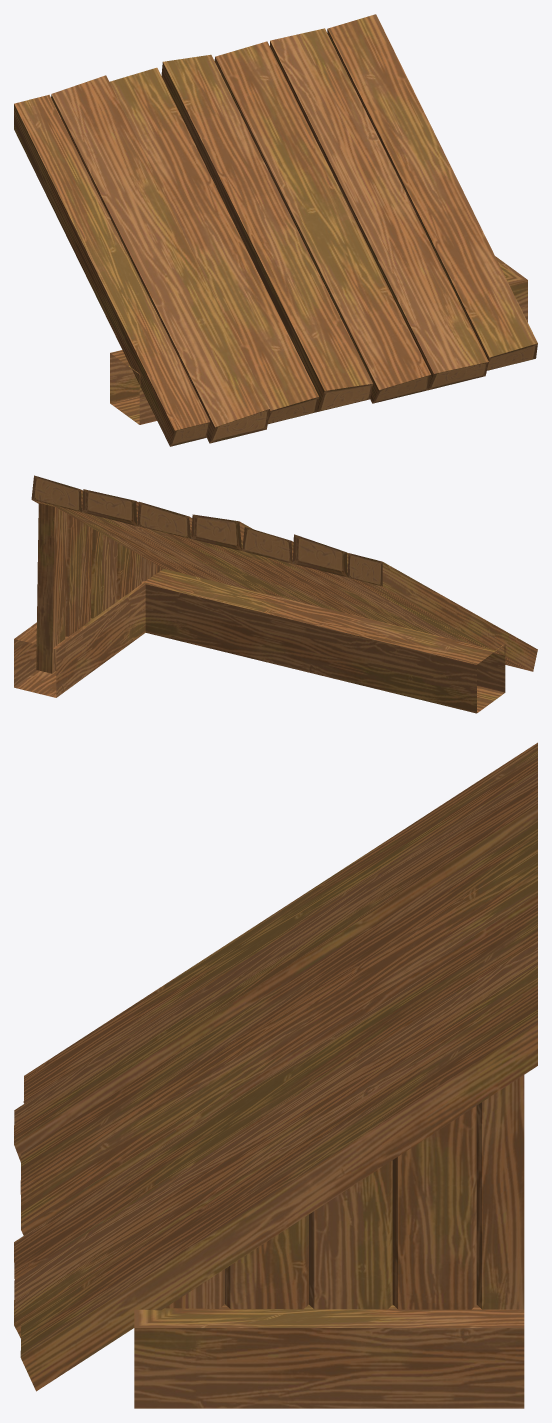
The model's file is Roof_Wooden_2x1_R.gltf.
3 renders of one model, top to bottom at view 1: azimuth 30°, elevation 25°; view 2: azimuth 150°, elevation 25°; view 3: azimuth 270°, elevation 25°, orthographic. The views are drawn at different scales.
Parts seen in each view (by area): view 1: Roof_Wooden_2x1_R; view 2: Roof_Wooden_2x1_R; view 3: Roof_Wooden_2x1_R.
Part boxes in pixels (bbox=[...]): Roof_Wooden_2x1_R: bbox=[14, 14, 537, 446]; Roof_Wooden_2x1_R: bbox=[14, 475, 537, 713]; Roof_Wooden_2x1_R: bbox=[14, 742, 537, 1408].
Bounding box in the file's own units: 2.13 × 1.25 × 1.56.
Materials: 2 (2 with a texture image).
